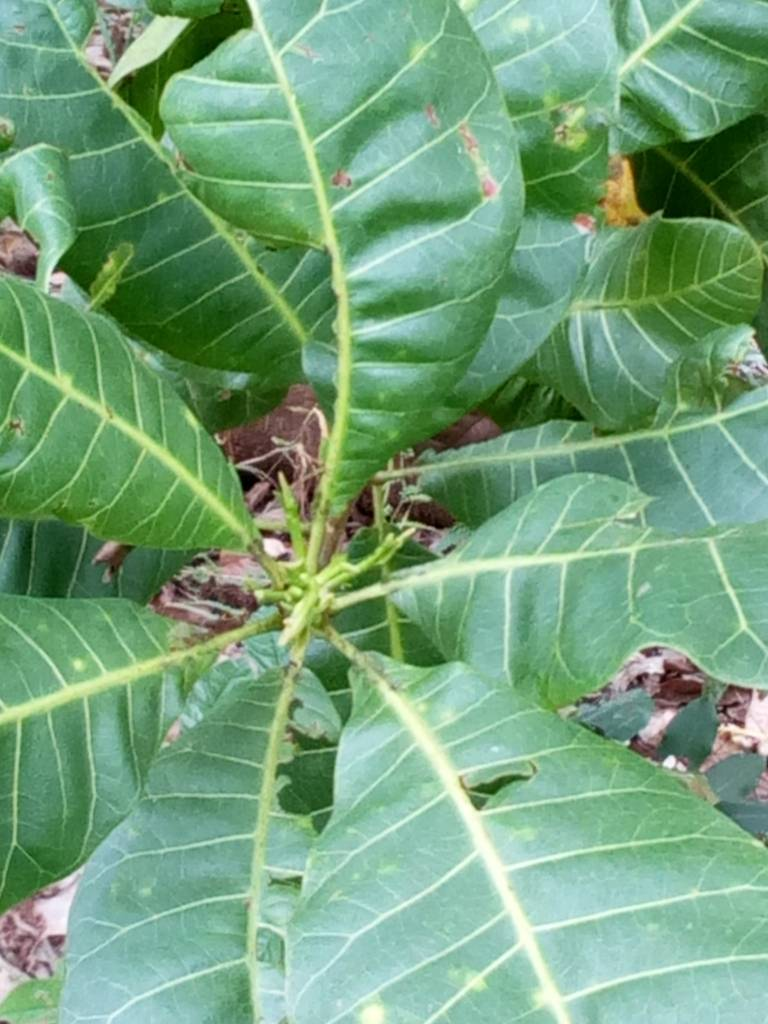Anoplonemis curvipes: (61, 647, 399, 1024)
